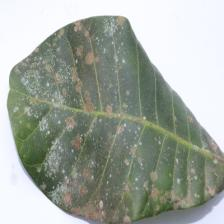red rust: (6, 14, 224, 223)
